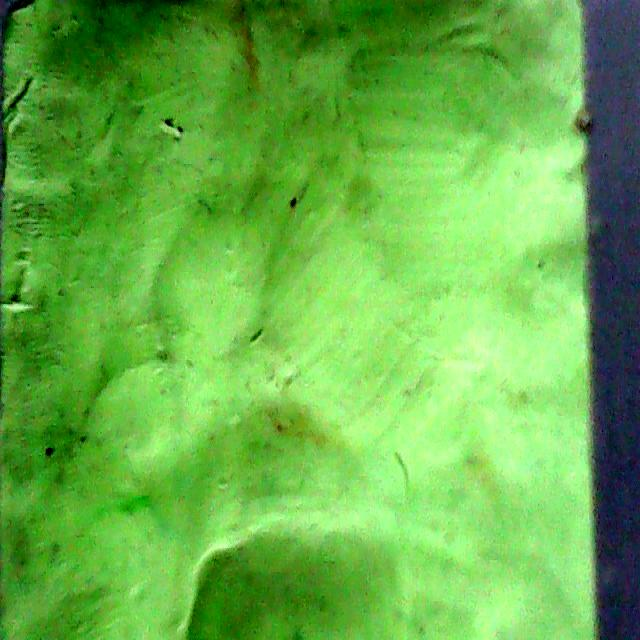block: (2, 2, 636, 640)
